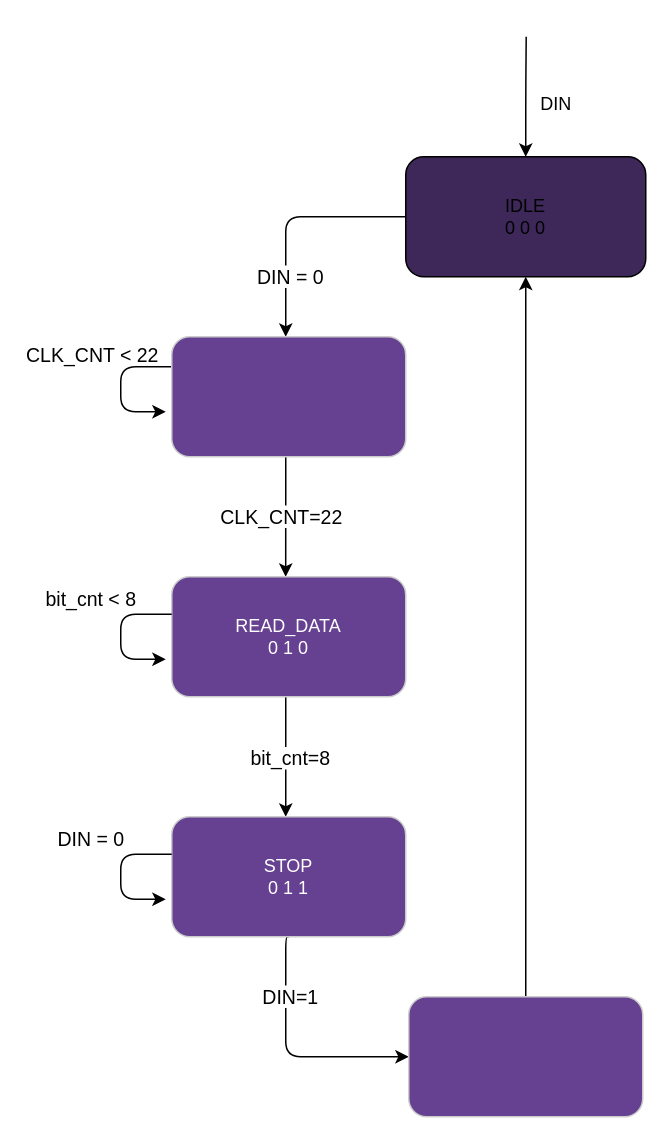
The diagram is 672 pixels wide and 1143 high, and some of its shapes have lost their labels. The shapes that lost their labels are listed below. From the top down, each one's centre as x and y in pixels, then its label:
At [288,396]: "START 0 0 1".
At [525,1056]: "VALIDATE 1 0 0".
